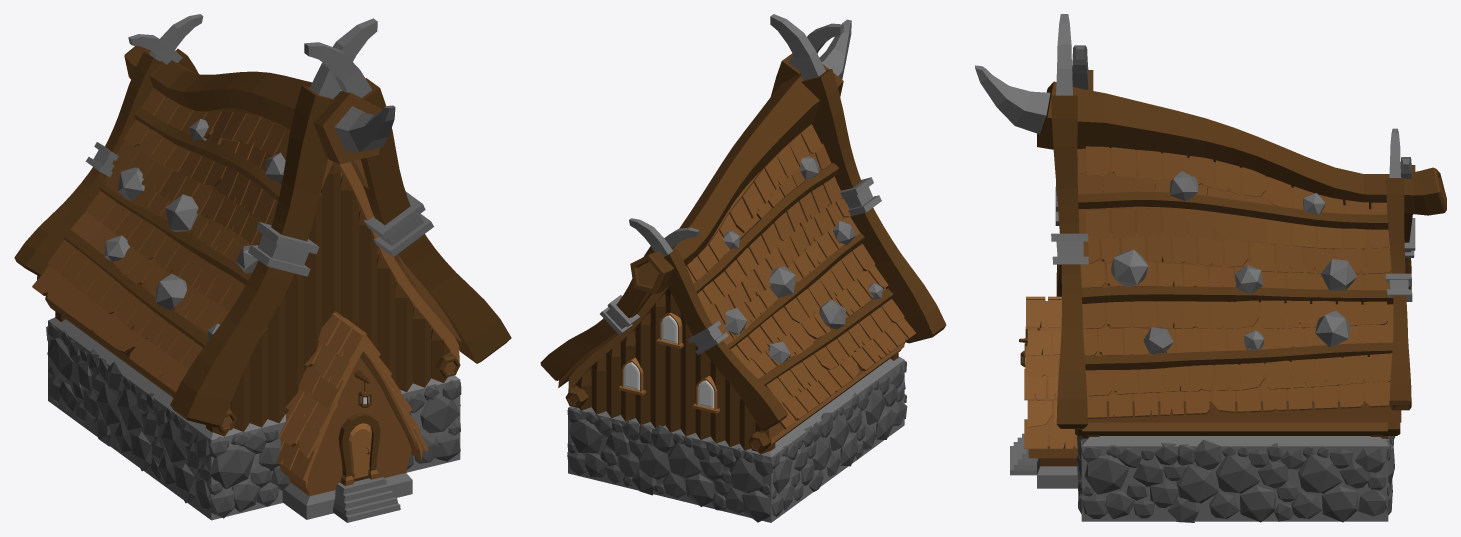
The model's file is B_ChiefBase.fbx.
The picture shows the model from 3 angles, left to right: view 1: azimuth 30°, elevation 25°; view 2: azimuth 150°, elevation 25°; view 3: azimuth 270°, elevation 25°; orthographic projection. The views are drawn at different scales.
Parts seen in each view (by area): view 1: B_ChiefBase; view 2: B_ChiefBase; view 3: B_ChiefBase.
Part boxes in pixels (x1=…): B_ChiefBase: x1=14, y1=14, x2=511, y2=522; B_ChiefBase: x1=540, y1=14, x2=946, y2=522; B_ChiefBase: x1=975, y1=14, x2=1446, y2=522.
Size of the model in its own units: 645 by 880 by 865.
